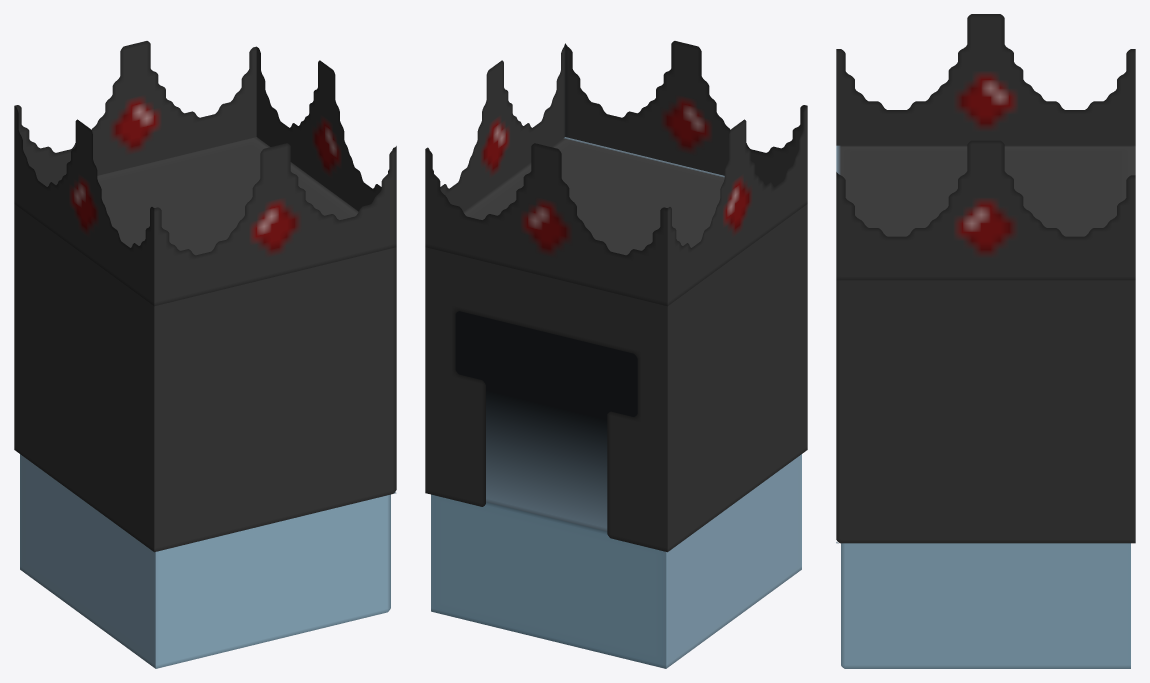
File: boss_ghost.obj
3 renders of one model, left to right at view 1: azimuth 30°, elevation 25°; view 2: azimuth 150°, elevation 25°; view 3: azimuth 270°, elevation 25°, orthographic. The views are drawn at different scales.
Parts seen in each view (by area): view 1: Body.001_Mesh_1; view 2: Body.001_Mesh_1; view 3: Body.001_Mesh_1.
Part boxes in pixels (<box>): Body.001_Mesh_1: <box>14,41,396,668</box>; Body.001_Mesh_1: <box>425,41,807,668</box>; Body.001_Mesh_1: <box>836,14,1135,668</box>.
Bounding box in the file's own units: 2.06 × 4.03 × 2.06.
Materials: 1 (1 with a texture image).
